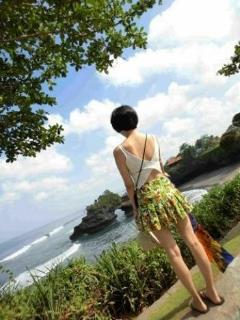skirt: (136, 175, 196, 233)
vest dress: (118, 134, 164, 190)
